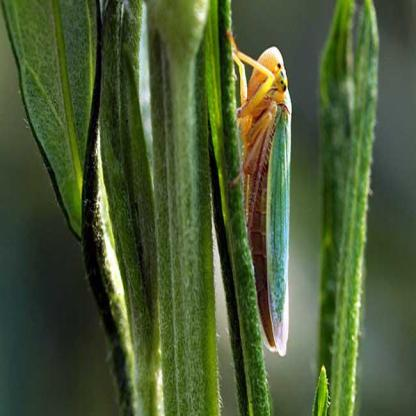Green-Leafhopper: (229, 32, 294, 364)
